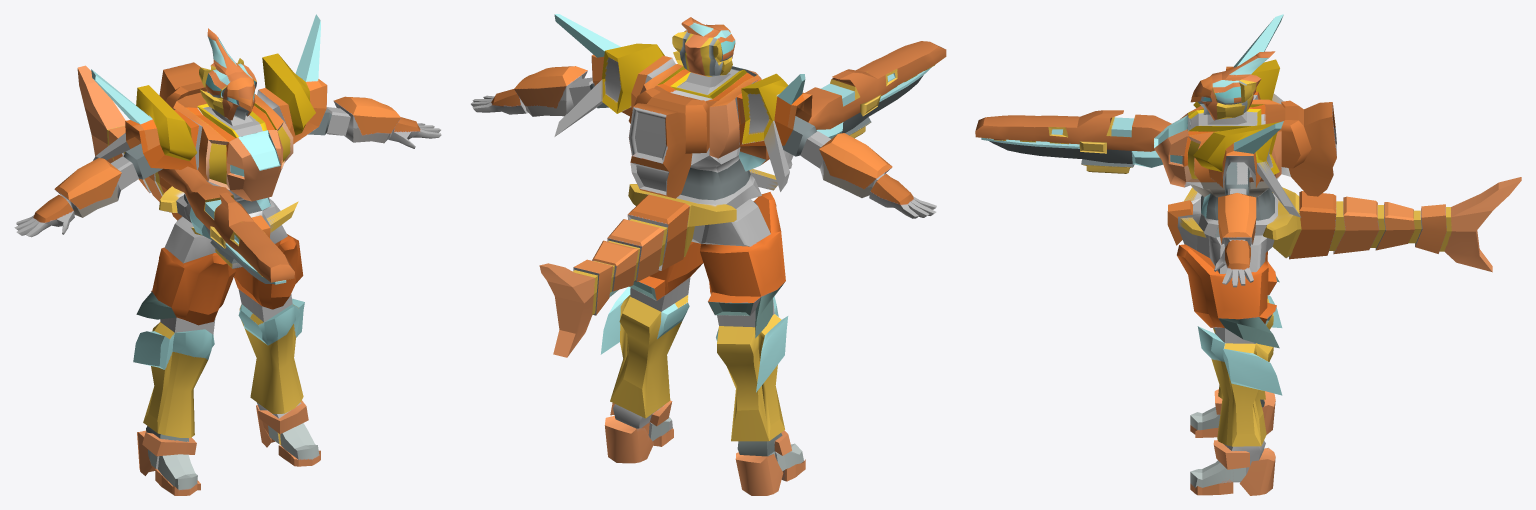
The model's file is Lifeboat.fbx.
3 views of the same model, side by side, from view 1: azimuth 30°, elevation 25°; view 2: azimuth 150°, elevation 25°; view 3: azimuth 270°, elevation 25° (orthographic). The views are drawn at different scales.
Parts seen in each view (by area): view 1: Body, Gun2, Head; view 2: Body, Gun2, Head; view 3: Body, Gun2, Head.
Part boxes in pixels (x1,y1,x2,y2): Body: (14, 14, 441, 495); Gun2: (158, 166, 294, 284); Head: (199, 28, 256, 120); Body: (471, 14, 936, 495); Gun2: (738, 41, 946, 171); Head: (672, 17, 735, 76); Body: (1154, 14, 1521, 495); Gun2: (975, 110, 1171, 173); Head: (1190, 51, 1275, 120).
Size of the model in its own units: 9.33 by 8.87 by 10.71.
Materials: 3 (3 with a texture image).
